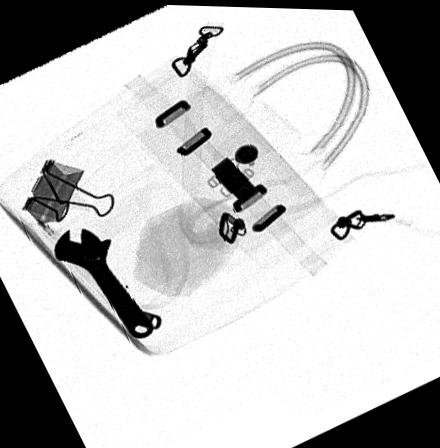Wrench: (53, 227, 155, 339)
